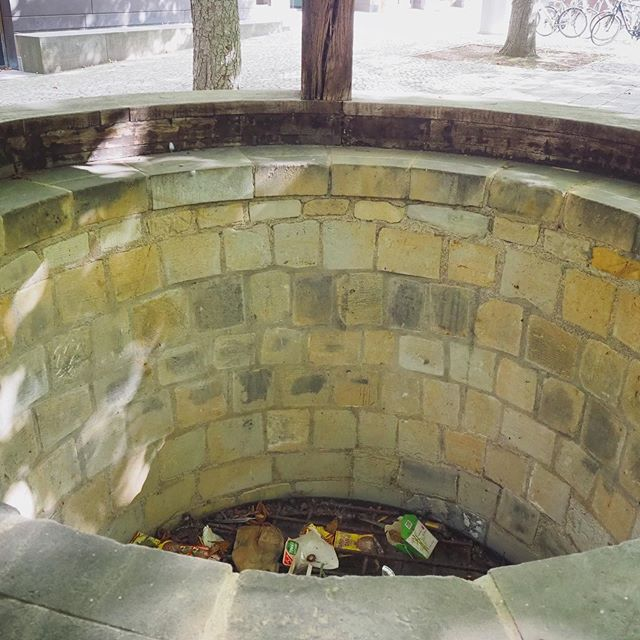trash: (123, 459, 488, 591)
